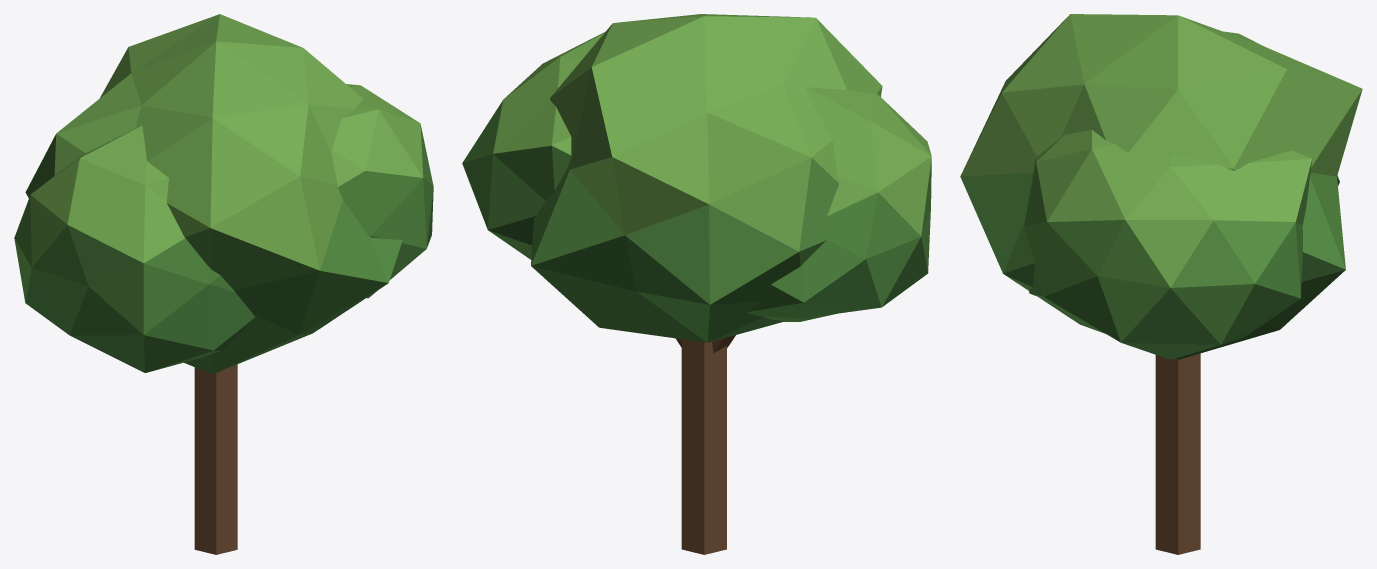
Rendered from tree_broadleaf_c.glb.
The picture shows the model from 3 angles, left to right: view 1: azimuth 30°, elevation 25°; view 2: azimuth 150°, elevation 25°; view 3: azimuth 270°, elevation 25°; orthographic projection. The views are drawn at different scales.
Visible parts, largest first — view 1: tree_broadleaf_c; view 2: tree_broadleaf_c; view 3: tree_broadleaf_c.
Part boxes in pixels (x1,y1,x2,y2): tree_broadleaf_c: (14, 14, 433, 554); tree_broadleaf_c: (462, 14, 931, 554); tree_broadleaf_c: (960, 14, 1362, 554).
Bounding box in the file's own units: 1.85 × 2.23 × 1.54.
